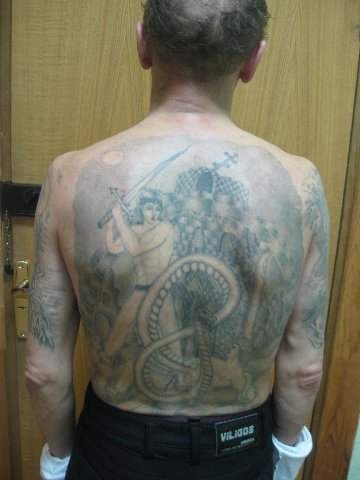tatu7_zmeya: (132, 255, 237, 411)
